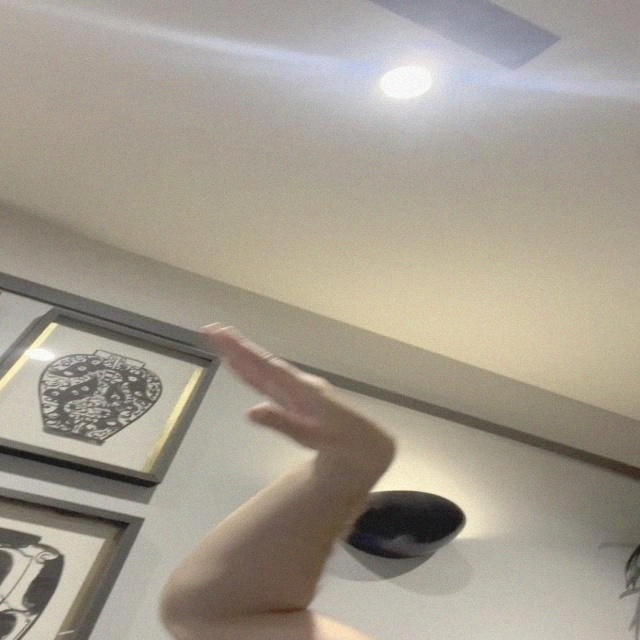Paper: (199, 321, 399, 475)
